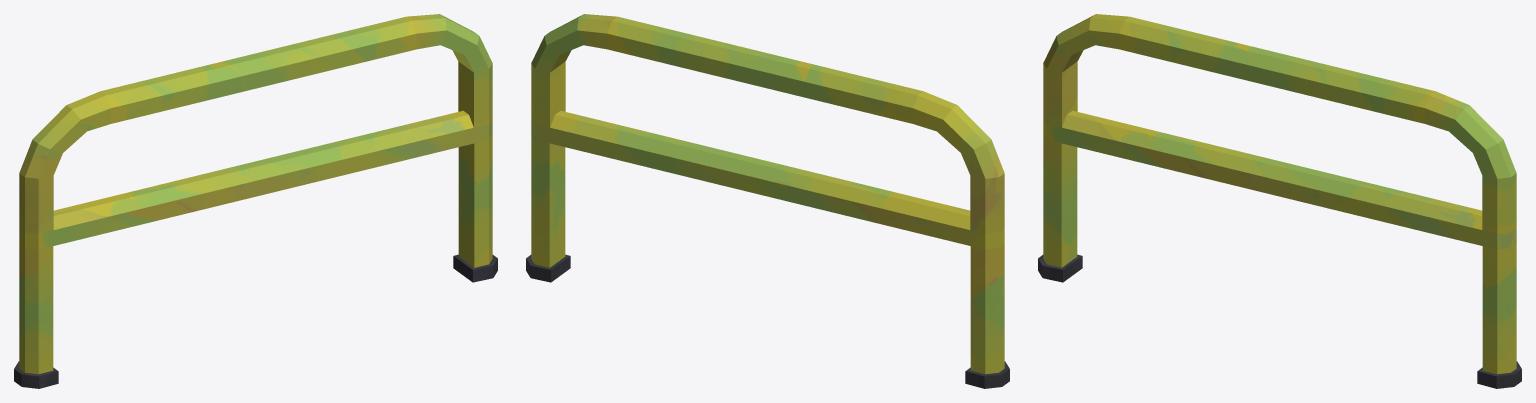
File: Guardrail.glb
3 renders of one model, left to right at view 1: azimuth 30°, elevation 25°; view 2: azimuth 150°, elevation 25°; view 3: azimuth 330°, elevation 25°, orthographic.
Visible parts, largest first — view 1: Prop_GuardRail; view 2: Prop_GuardRail; view 3: Prop_GuardRail.
Boxes of the visible parts, left/top/right/bottom form: Prop_GuardRail: left=14, top=14, right=497, bottom=388; Prop_GuardRail: left=526, top=14, right=1009, bottom=388; Prop_GuardRail: left=1038, top=14, right=1521, bottom=388.
Size of the model in its own units: 2 by 1.08 by 0.15.
1 material, 1 textured.
